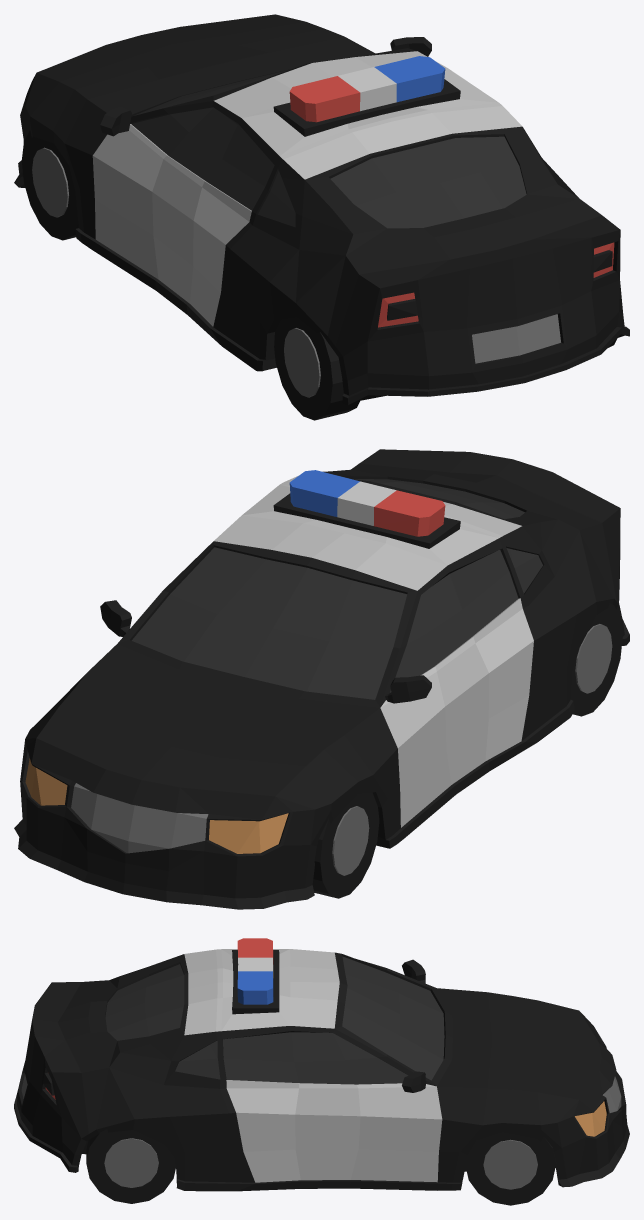
File: police.glb
3 renders of one model, top to bottom at view 1: azimuth 30°, elevation 25°; view 2: azimuth 150°, elevation 25°; view 3: azimuth 270°, elevation 25°, orthographic. The views are drawn at different scales.
Parts seen in each view (by area): view 1: Body, Wheel_RL, Wheel_FL; view 2: Body, Wheel_FL, Wheel_RL; view 3: Body, Wheel_RR, Wheel_FR.
Boxes of the visible parts, x1=… form: Body: x1=14, y1=14, x2=629, y2=405; Wheel_RL: x1=274, y1=317, x2=359, y2=420; Wheel_FL: x1=21, y1=130, x2=78, y2=240; Body: x1=14, y1=449, x2=629, y2=909; Wheel_FL: x1=312, y1=792, x2=379, y2=898; Wheel_RL: x1=571, y1=603, x2=622, y2=716; Body: x1=14, y1=938, x2=629, y2=1191; Wheel_RR: x1=86, y1=1129, x2=175, y2=1203; Wheel_FR: x1=465, y1=1132, x2=556, y2=1205.
Bounding box in the file's own units: 2.24 × 1.56 × 4.7.
